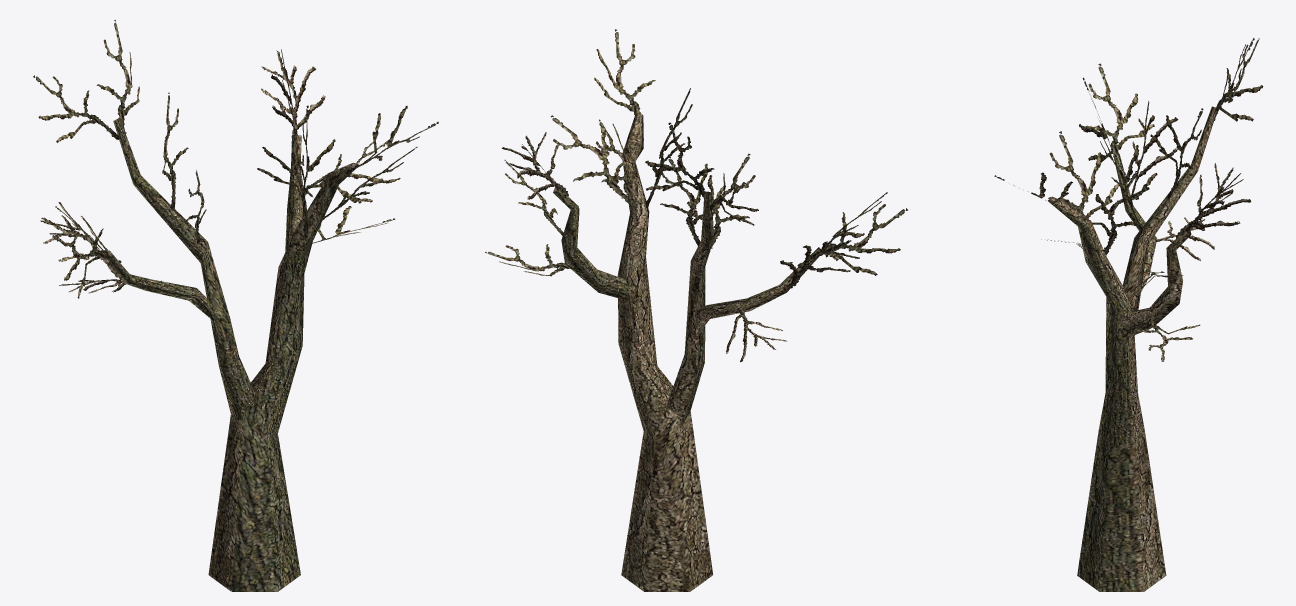
Rendered from snag-oak.glb.
The picture shows the model from 3 angles, left to right: view 1: azimuth 30°, elevation 25°; view 2: azimuth 150°, elevation 25°; view 3: azimuth 270°, elevation 25°; orthographic projection. The views are drawn at different scales.
Parts seen in each view (by area): view 1: snag-oak; view 2: snag-oak; view 3: snag-oak.
Boxes of the visible parts, x1,y1,x2,y2 form: snag-oak: (33,20,438,591); snag-oak: (485,29,907,591); snag-oak: (994,38,1263,591).
Bounding box in the file's own units: 10.51 × 13.13 × 7.56.
1 material, 1 textured.
